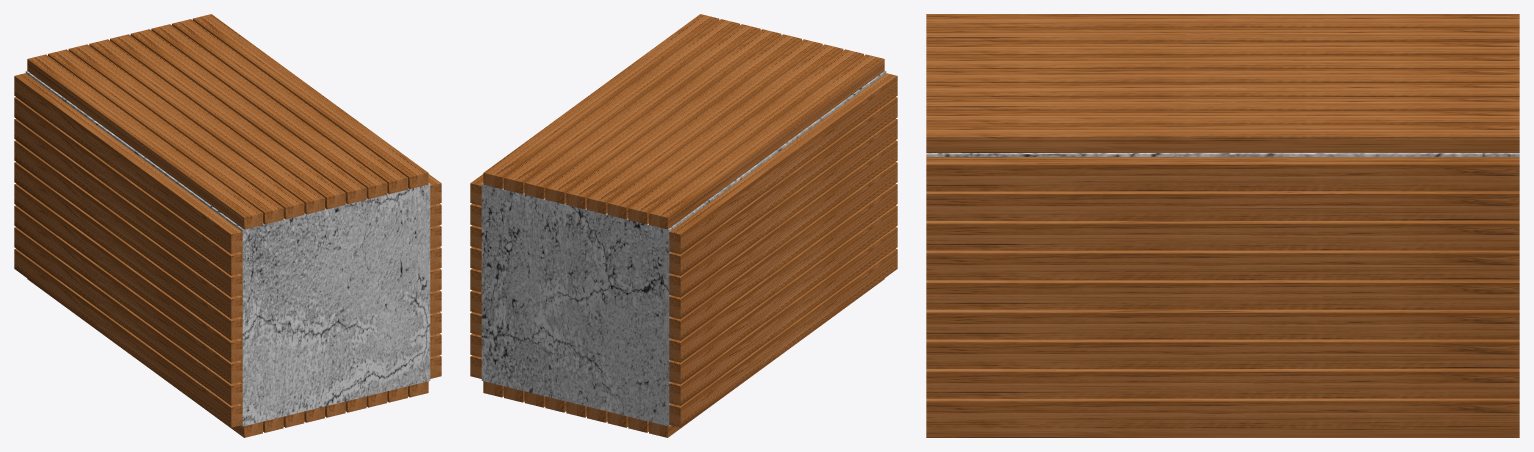
The model's file is урна.glb.
3 views of the same model, side by side, from view 1: azimuth 30°, elevation 25°; view 2: azimuth 150°, elevation 25°; view 3: azimuth 270°, elevation 25° (orthographic). The views are drawn at different scales.
Visible parts, largest first — view 1: Куб.015, Куб; view 2: Куб.015, Куб; view 3: Куб.015, Куб.
Boxes of the visible parts, x1,y1,x2,y2 form: Куб.015: (14,14,441,437); Куб: (25,71,430,426); Куб.015: (470,14,897,437); Куб: (481,71,886,426); Куб.015: (926,14,1519,437); Куб: (926,153,1519,156).
Bounding box in the file's own units: 1.12 × 1.12 × 2.
5 materials, 5 textured.
